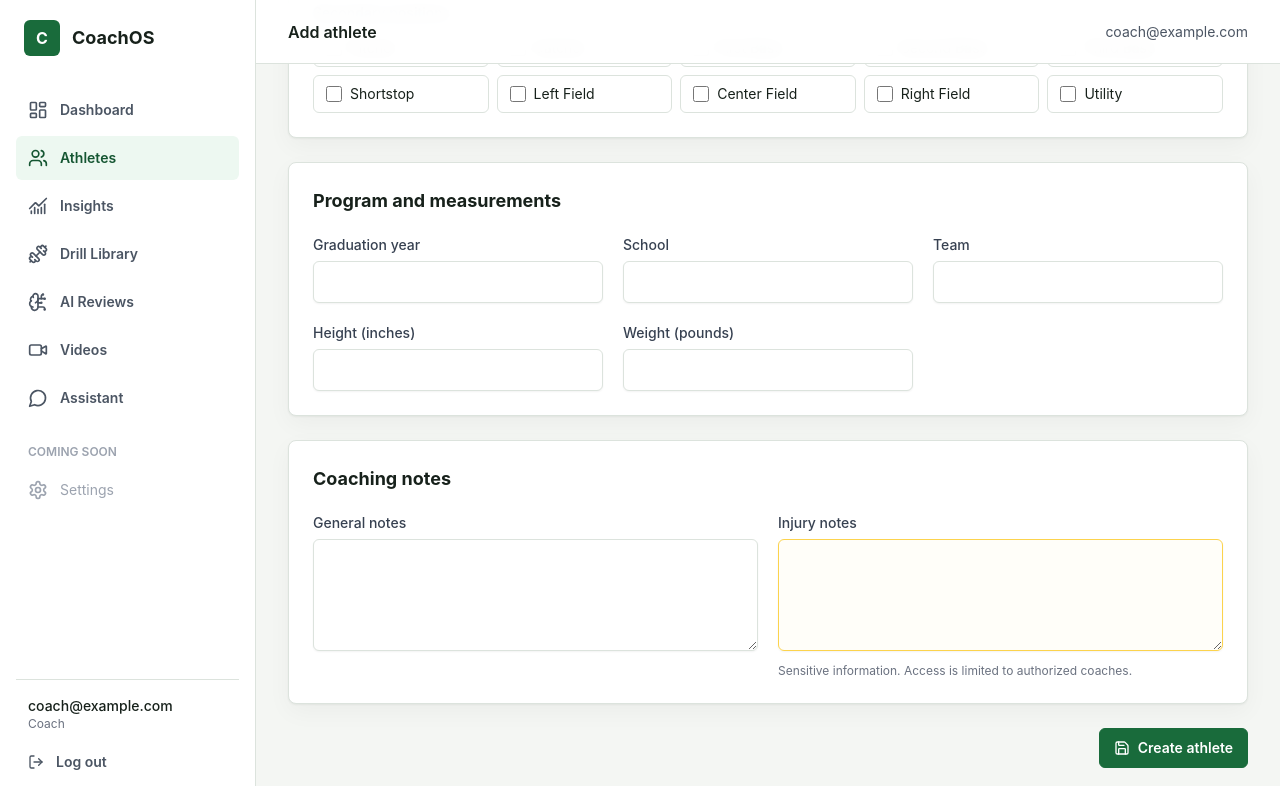
Scenario: athlete workflows › validates and creates an athlete
(page scrolled)
Click the button "Create athlete" at [1173, 748], box [1099,728,1248,768]
(page scrolled)
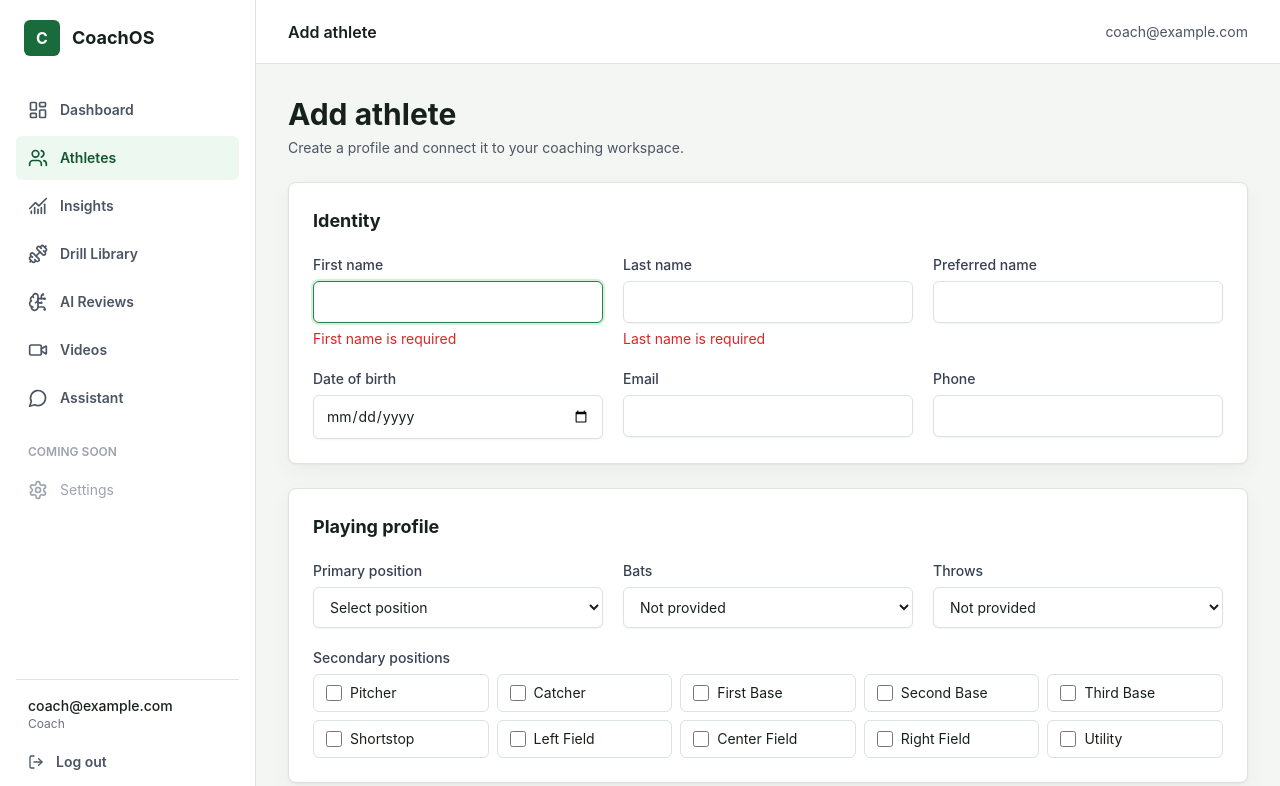
Now the number of messages is 2, box [313,330,456,347]; [623,330,765,347]
Type "Maya" into the field labelled "First name" at [458, 302], box [313,281,603,323]
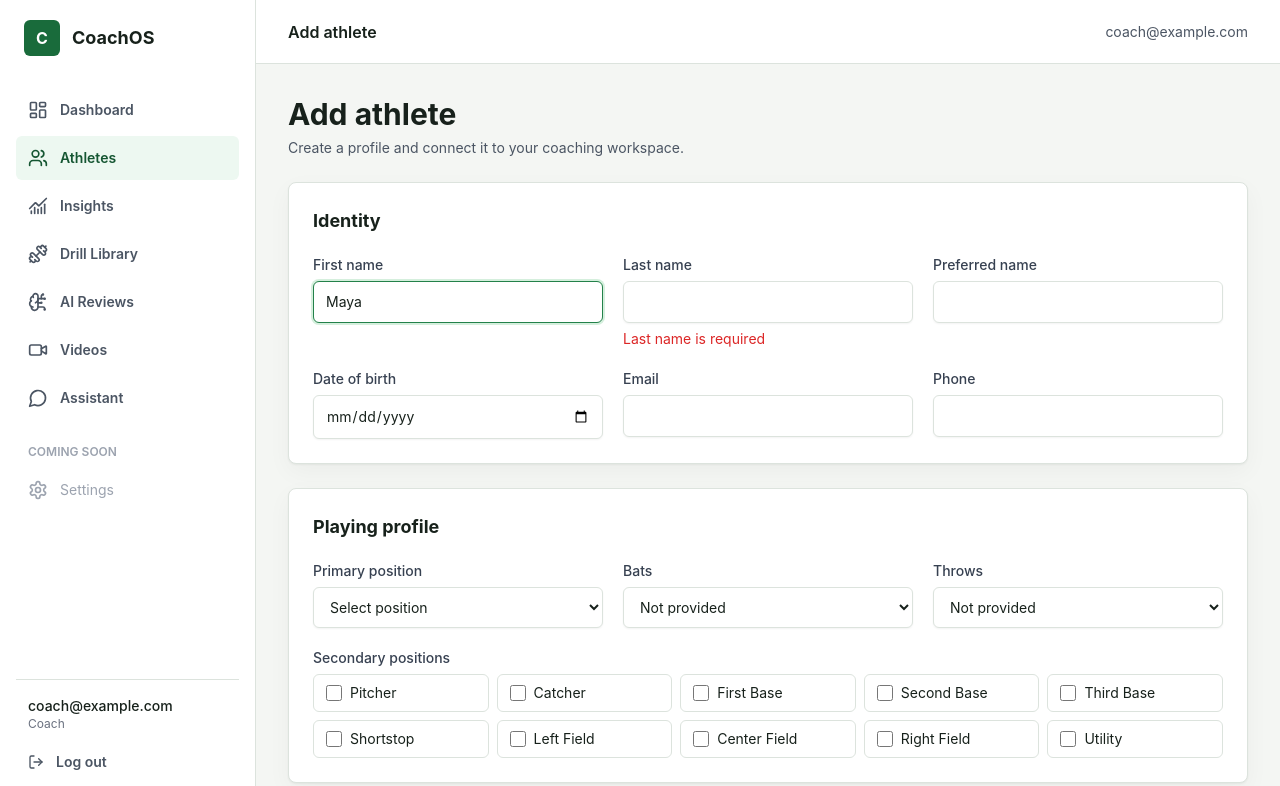
Type "Torres" into the field labelled "Last name" at [768, 302], box [623,281,913,323]
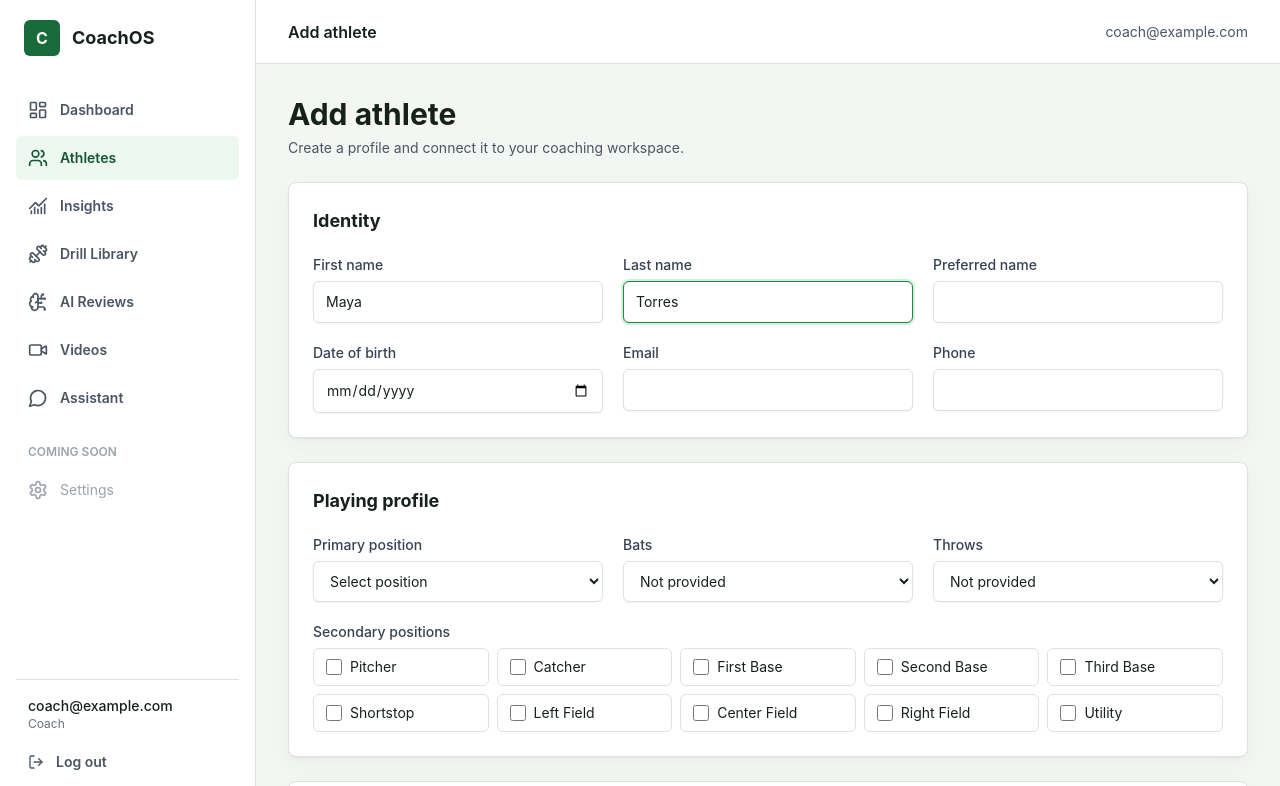
Select "Shortstop" in the dropdown labelled "Primary position" at [458, 582], box [313,561,603,602]
(page scrolled)
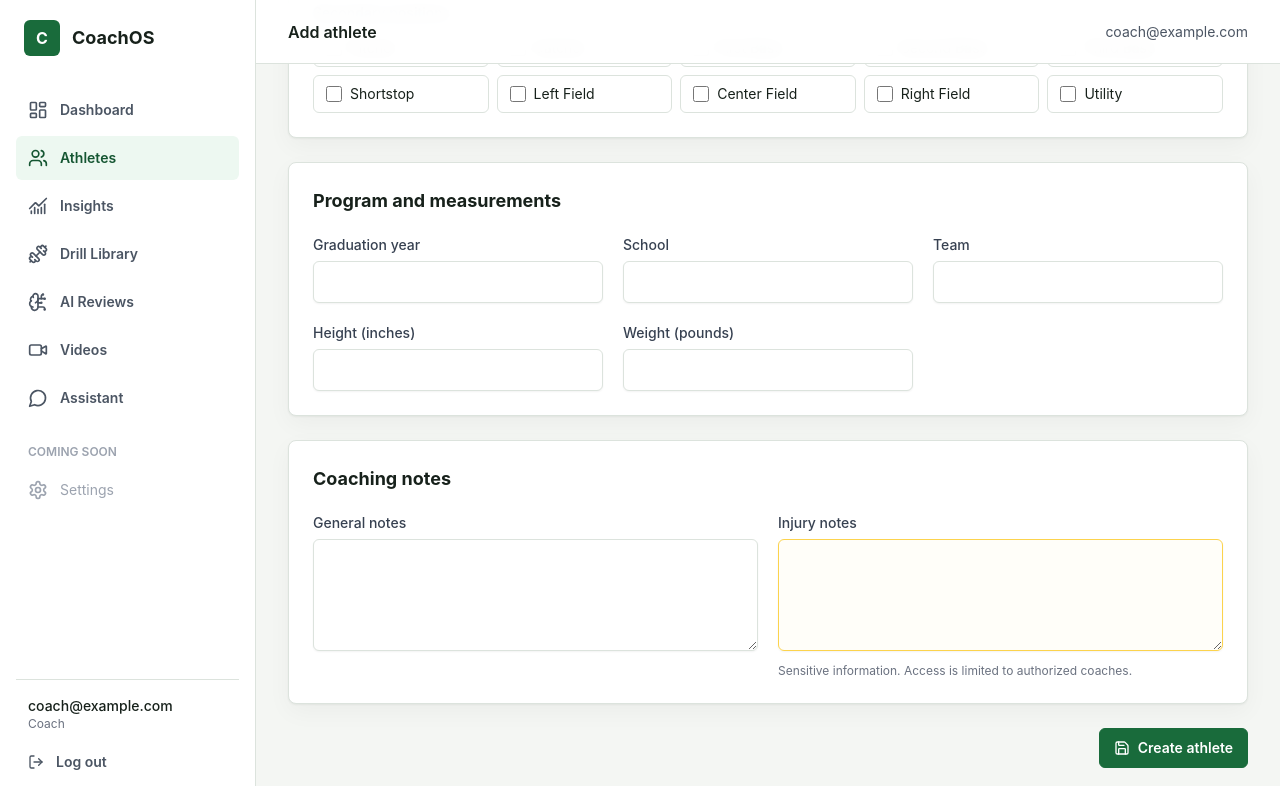
Click the button "Create athlete" at [1173, 748], box [1099,728,1248,768]
(page scrolled)
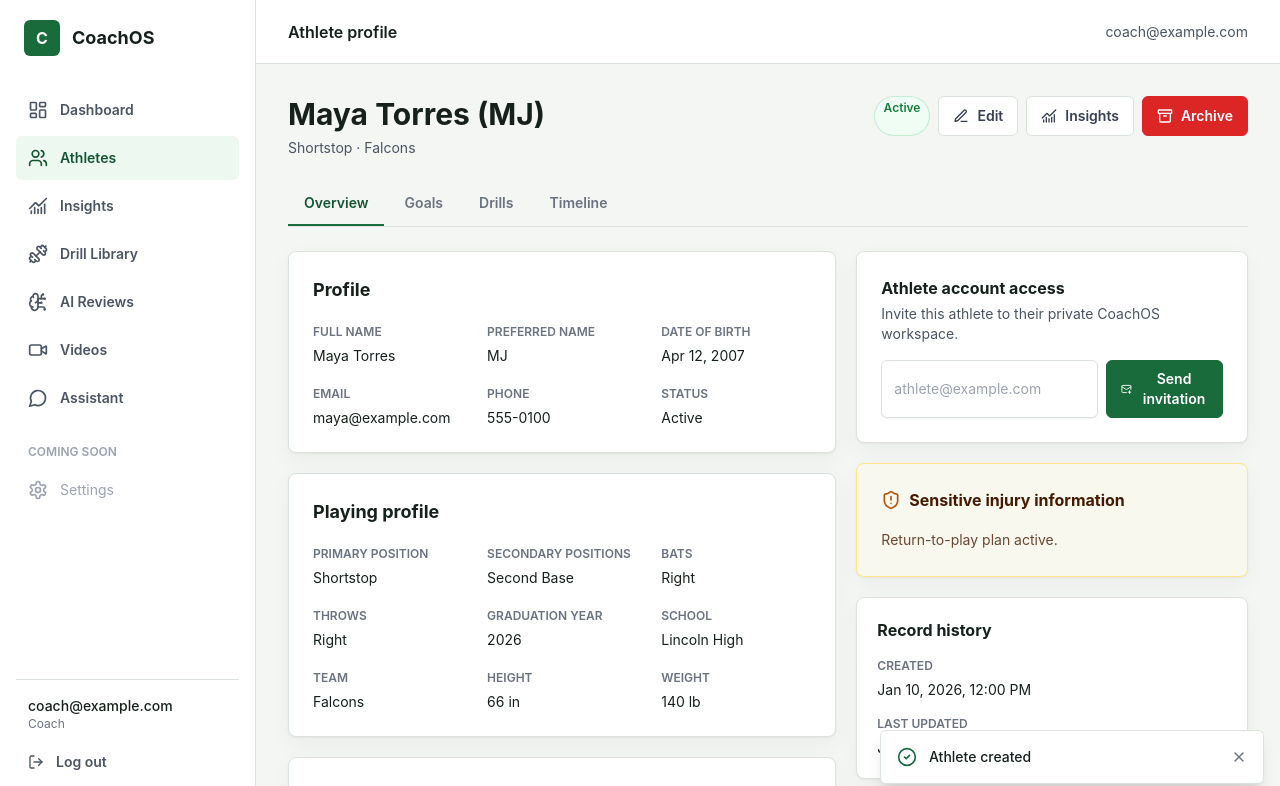
Now the text "Athlete created" is shown, box [929,748,1031,765]
